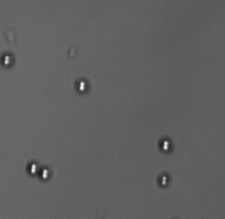Living Cell: (157, 135, 174, 154), (73, 77, 90, 95), (37, 166, 53, 183), (157, 172, 172, 188), (1, 52, 14, 69), (26, 160, 39, 177)
